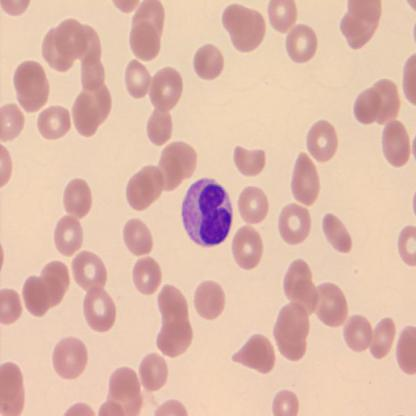Segmented neutrophil: (180, 175, 235, 247)
